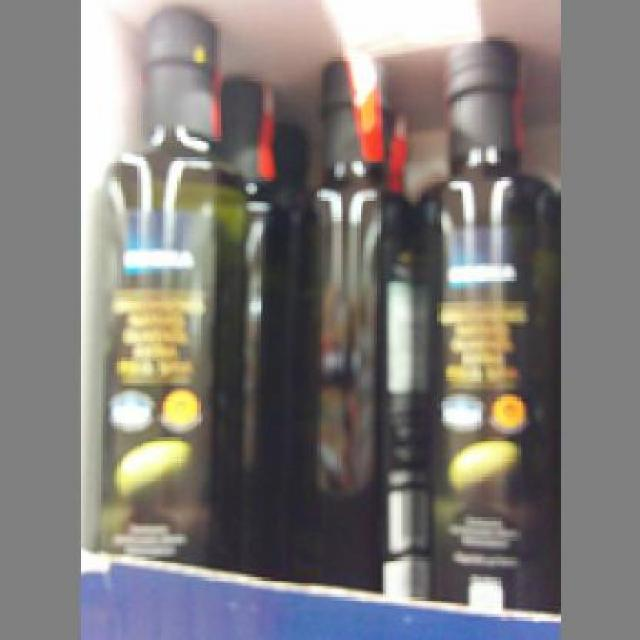Oil: (270, 49, 426, 600), (408, 31, 552, 614), (103, 8, 246, 566)
